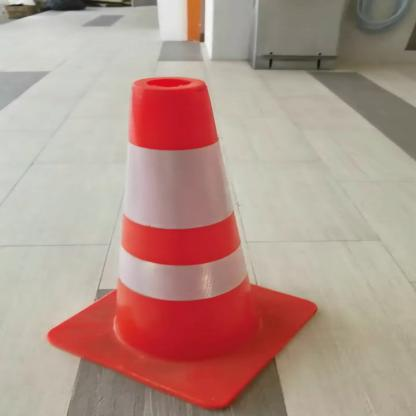cone: (39, 62, 326, 410)
